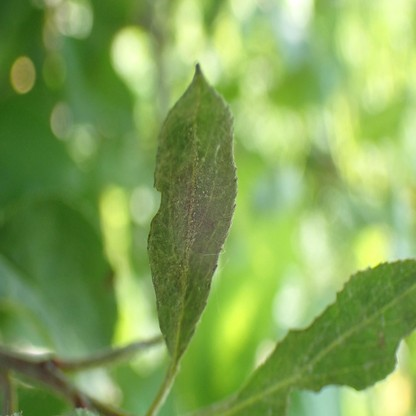powder: (148, 64, 237, 358)
